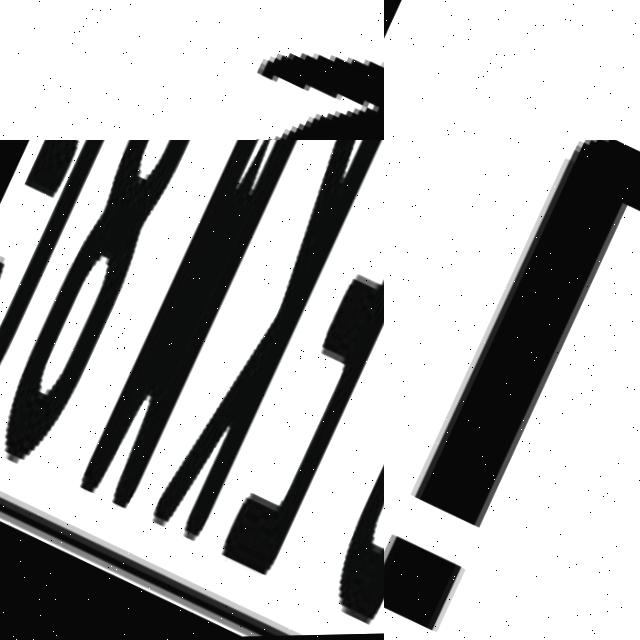8: (0, 140, 284, 475)
D: (292, 140, 384, 636)
E: (193, 140, 384, 590)
F: (384, 0, 640, 140)
G: (0, 140, 206, 451)
J: (384, 140, 640, 640)
K: (114, 140, 384, 555)
M: (50, 140, 373, 522)
